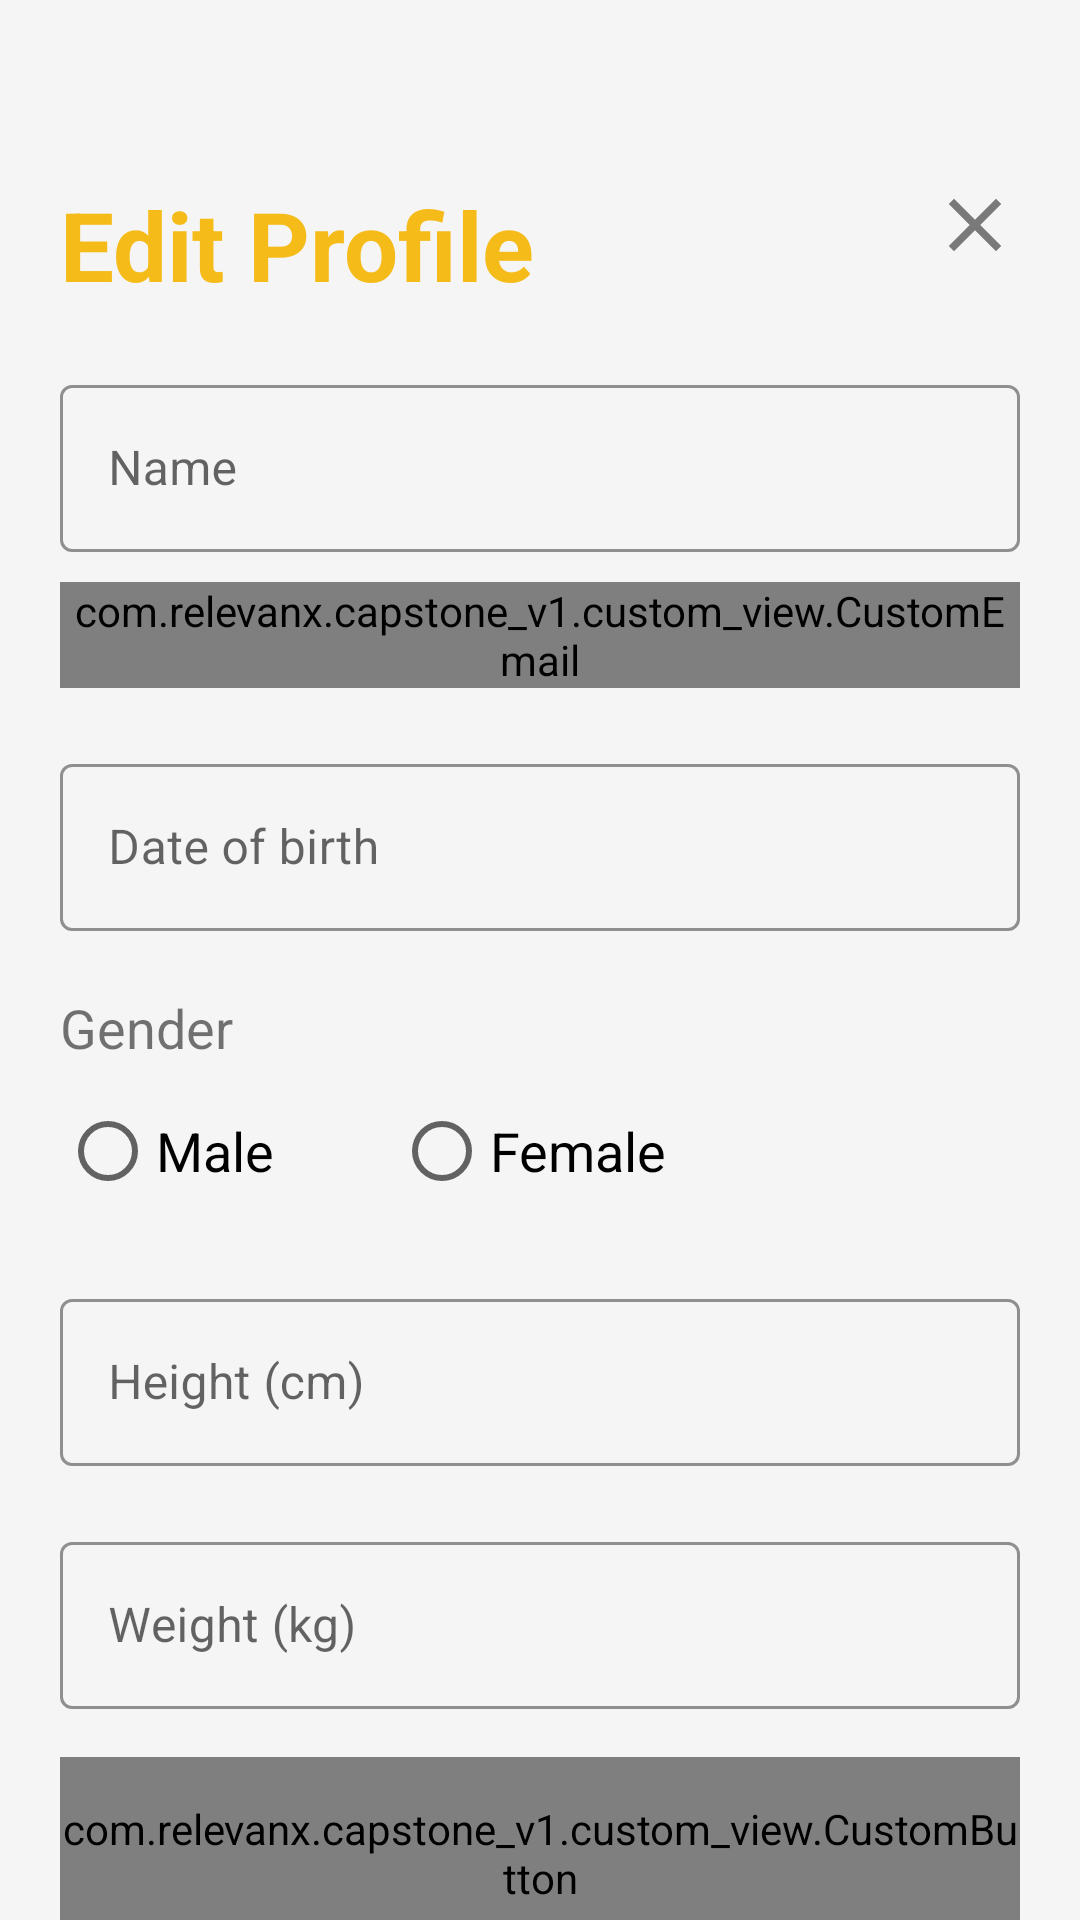

Point at icon controls on the screen. Image size 1080 x 1920, points as point (x, y).
close: point (975, 225)
